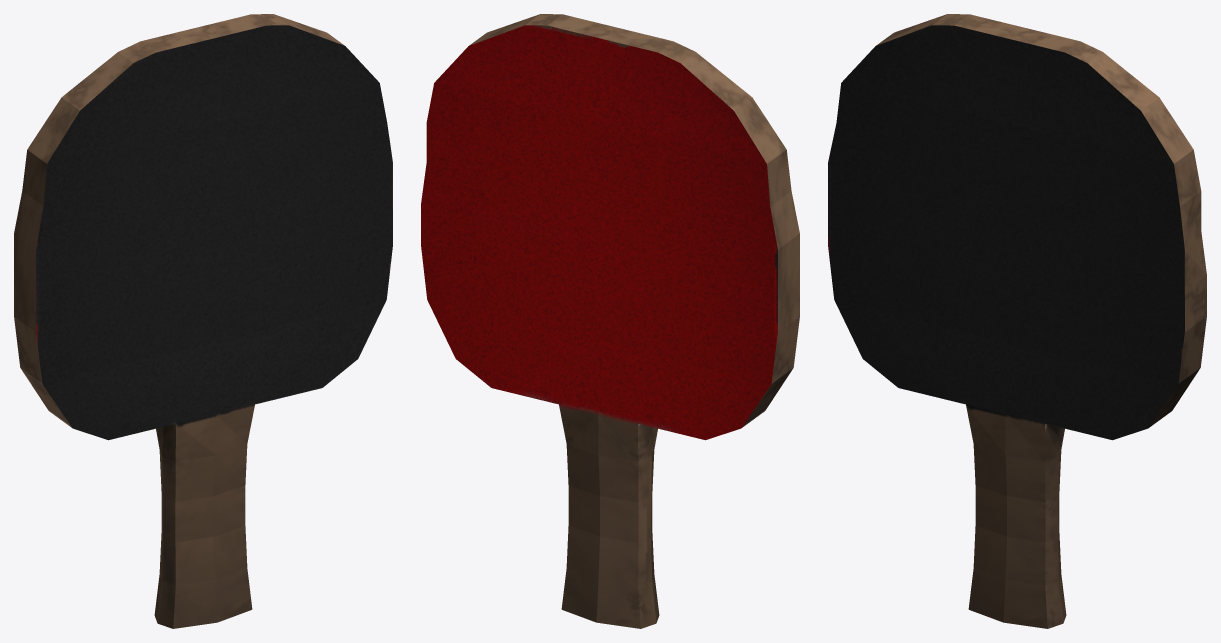
The model's file is pingpong.glb.
3 renders of one model, left to right at view 1: azimuth 30°, elevation 25°; view 2: azimuth 150°, elevation 25°; view 3: azimuth 330°, elevation 25°, orthographic.
Parts seen in each view (by area): view 1: Plane; view 2: Plane; view 3: Plane.
Part boxes in pixels (x1,y1,x2,y2): Plane: [14, 14, 392, 628]; Plane: [421, 14, 799, 628]; Plane: [828, 14, 1206, 628].
Size of the model in its own units: 0.717 by 1.11 by 0.0968.
1 material, 1 textured.
